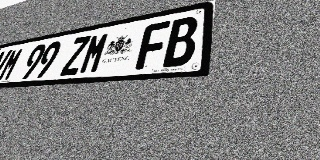9: (33, 40, 63, 78), (19, 43, 48, 79)
B: (163, 15, 199, 67)
F: (135, 21, 170, 70)
M: (78, 32, 111, 74), (0, 47, 25, 81)
V: (0, 50, 13, 82)
Z: (60, 35, 91, 76)
